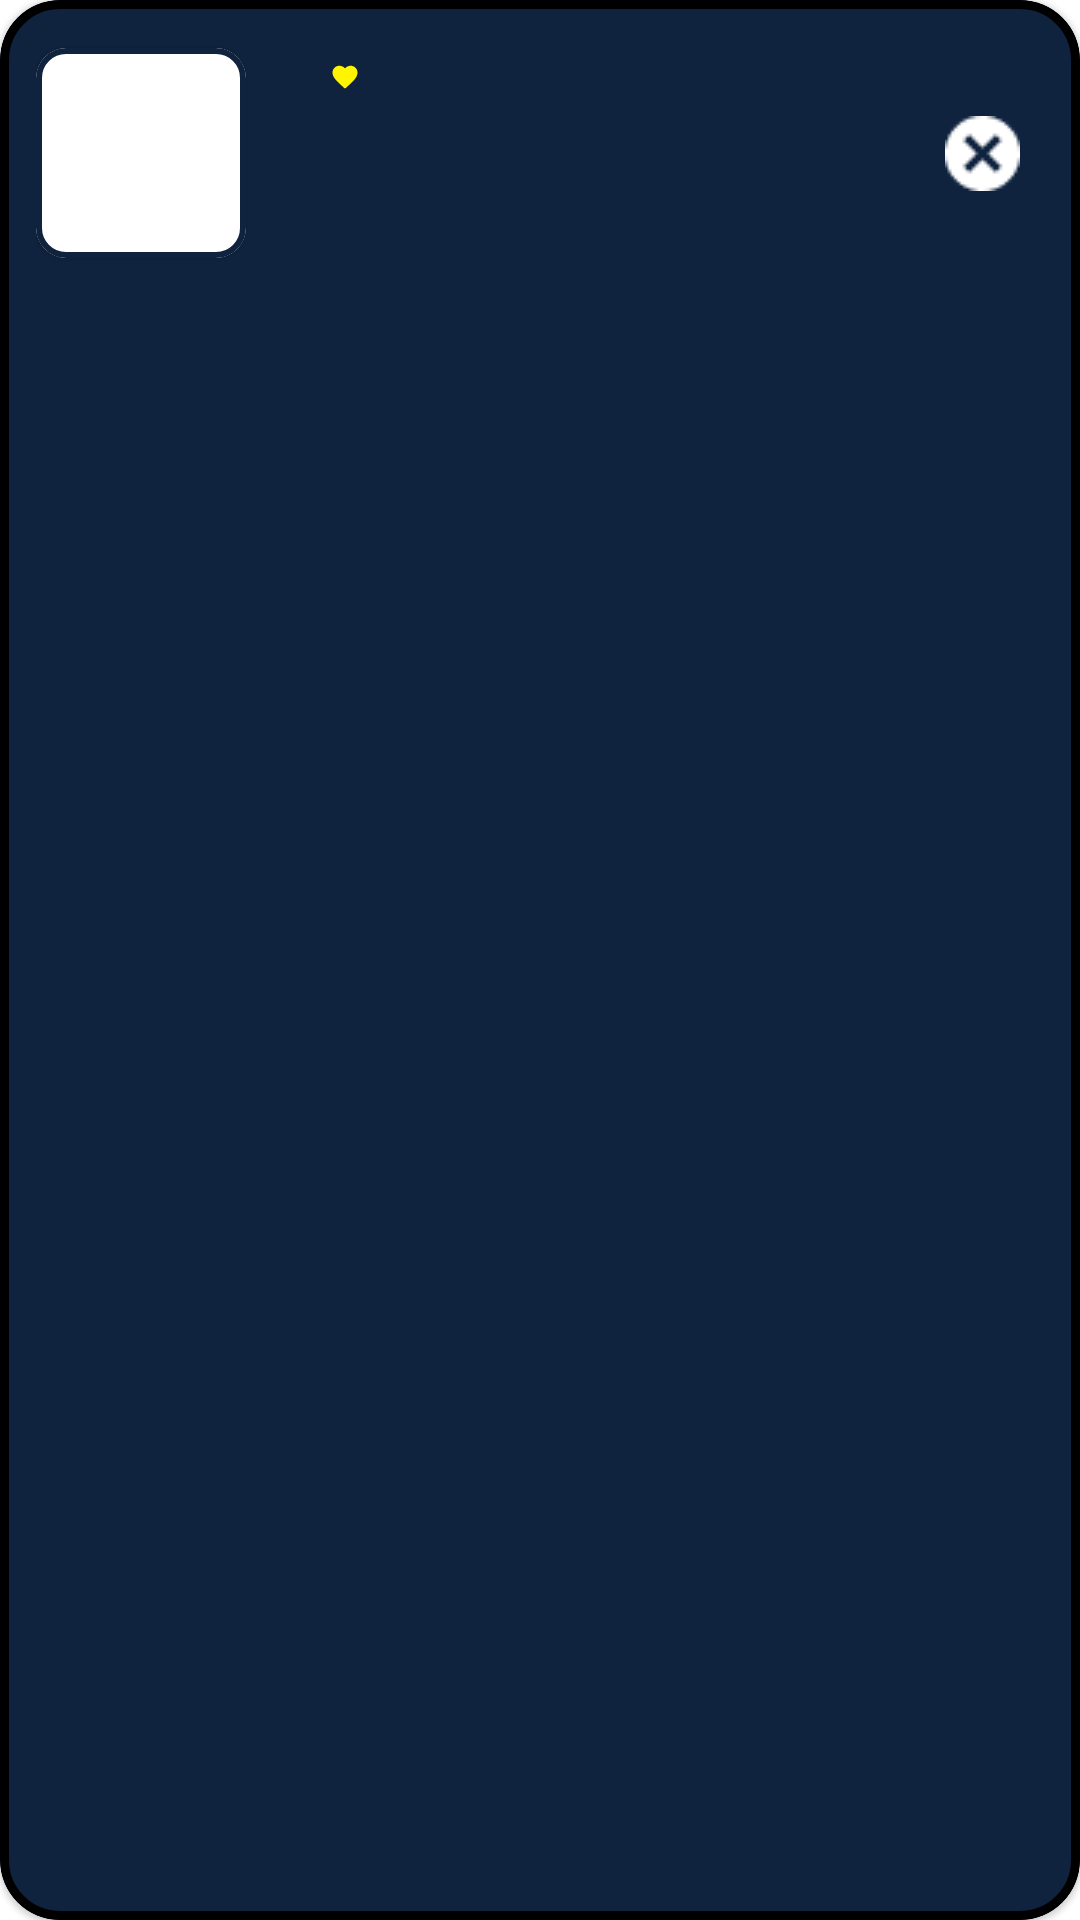

Where to tap for icons on this 1080 × 1920 app screen, as (x,y):
cancel: (982,153)
favorite: (345,77)
